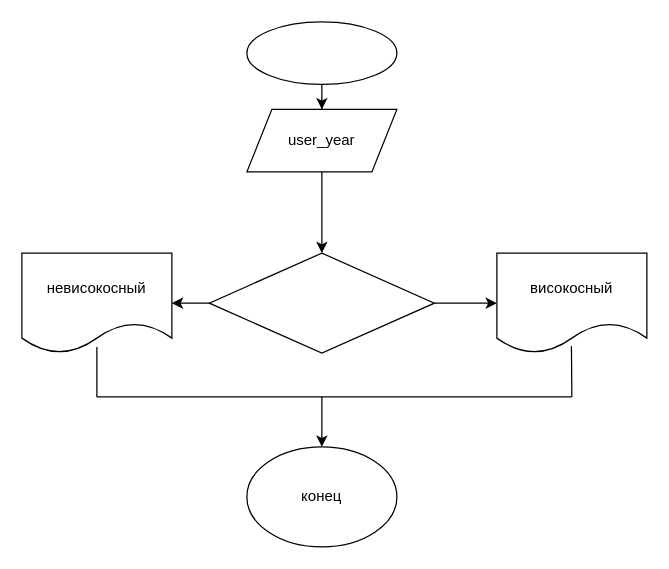
This 669x569 diagram has some shape labels left out. Here are the shapes that lost their labels. From the top down, the centre of each, then its label:
At point 321,52: "начало".
At point 321,302: "(user_year % 4) == 0".
